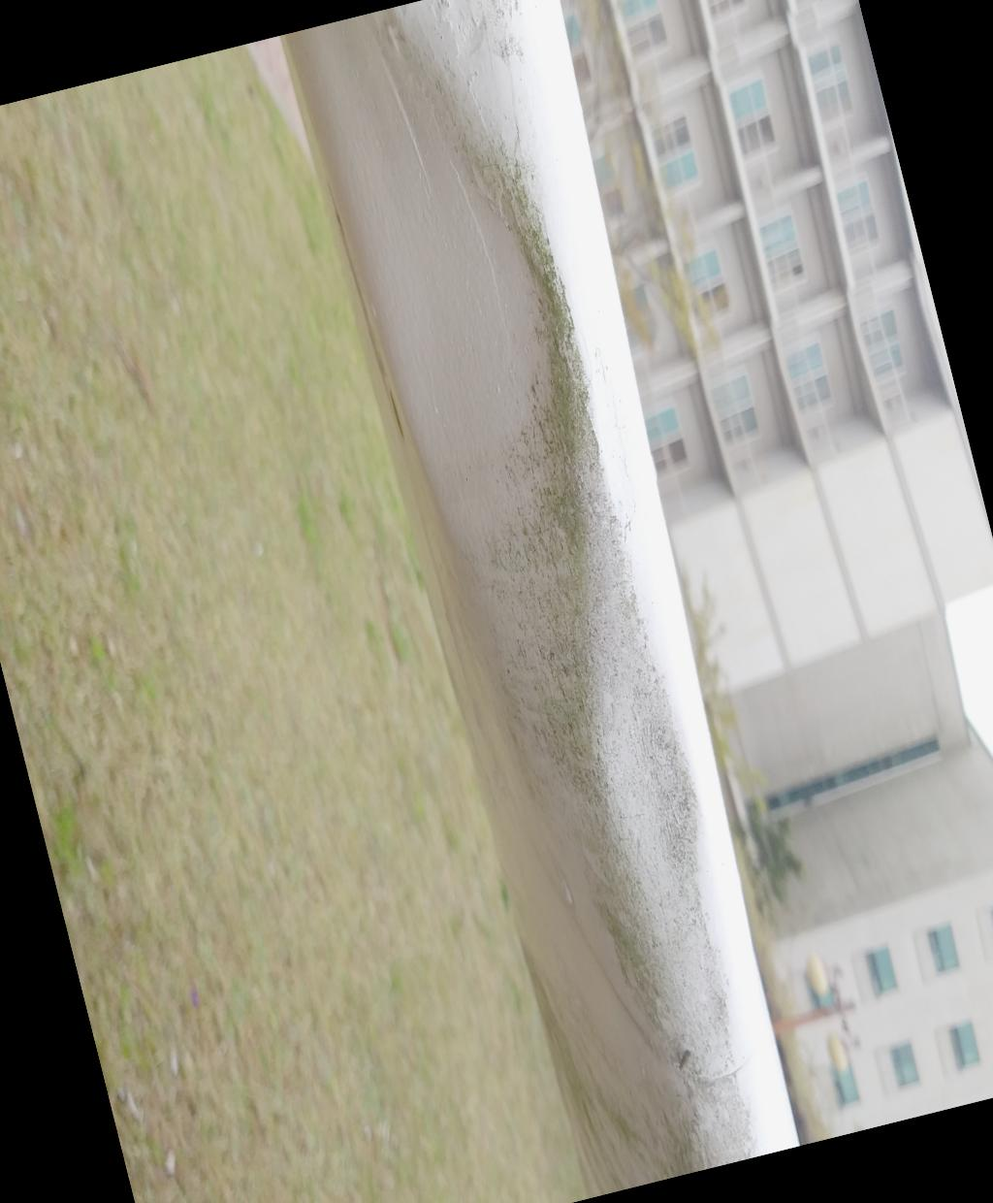dent: (465, 696, 880, 1202), (771, 654, 953, 885)
